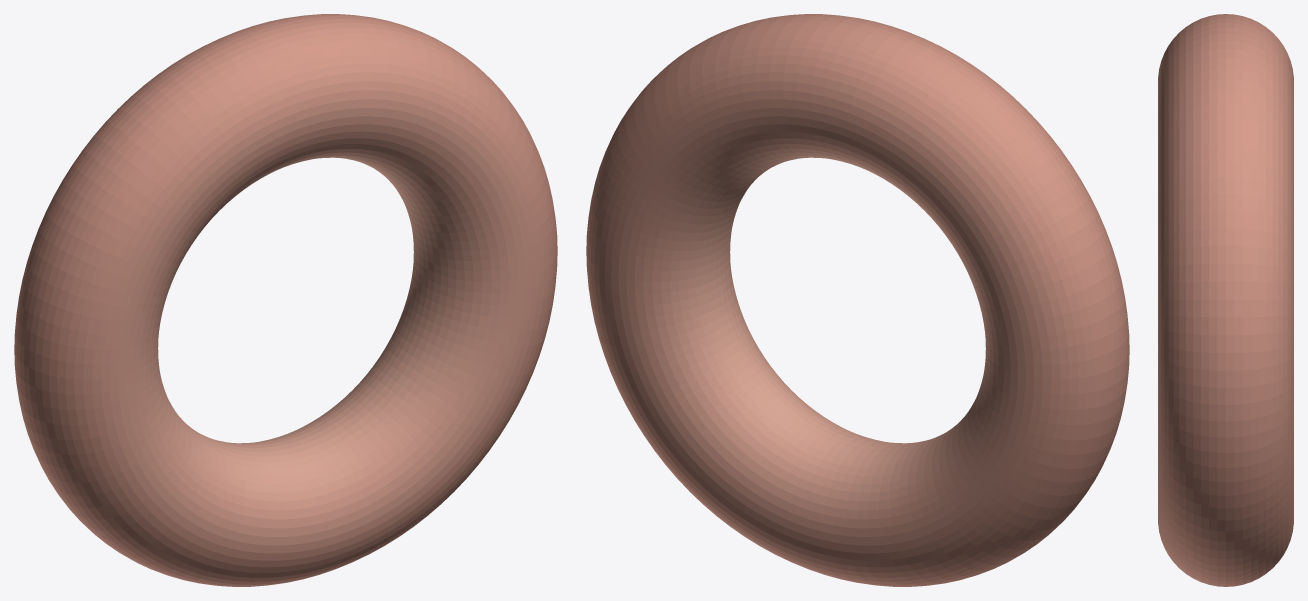
The picture shows the model from 3 angles, left to right: view 1: azimuth 30°, elevation 25°; view 2: azimuth 150°, elevation 25°; view 3: azimuth 270°, elevation 25°; orthographic projection. The views are drawn at different scales.
Parts seen in each view (by area): view 1: world; view 2: world; view 3: world.
Part boxes in pixels (x1,y1,x2,y2): world: (14,14,557,586); world: (586,14,1129,586); world: (1158,14,1293,586).
Bounding box in the file's own units: 29.73 × 29.73 × 7.05.
